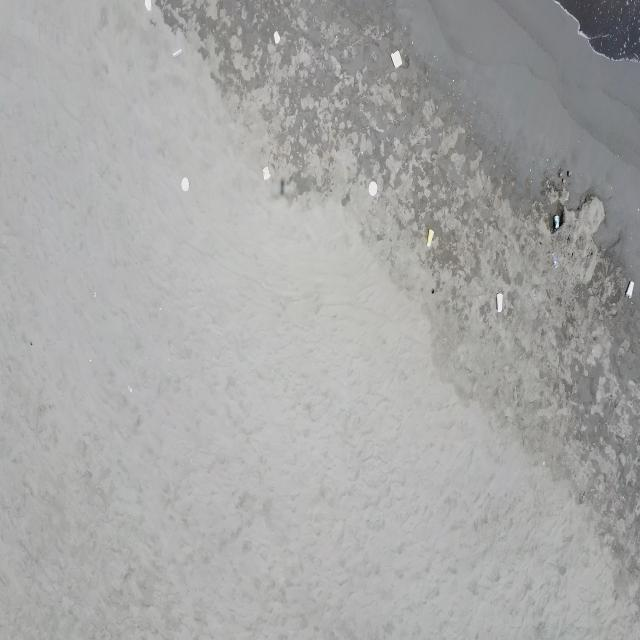take-away-containers: (390, 48, 402, 70), (368, 181, 378, 196), (273, 30, 281, 46), (181, 177, 189, 192), (262, 167, 271, 180), (144, 0, 152, 12)
takeaway-cup: (496, 292, 504, 313), (426, 228, 435, 246), (172, 44, 183, 58), (626, 280, 634, 298), (552, 251, 560, 269), (553, 215, 560, 229)
